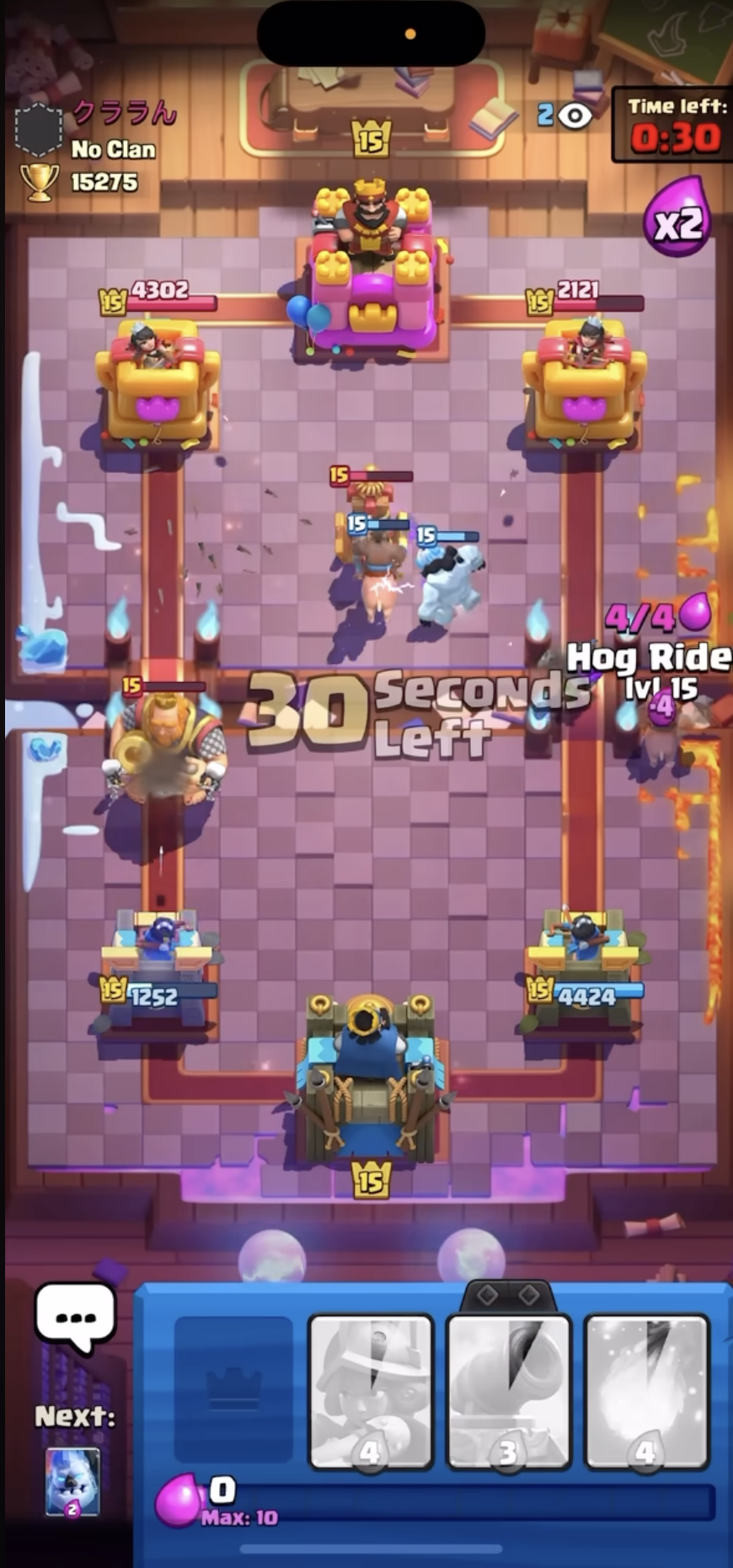hog-rider: (341, 515, 413, 623)
ice-golem: (414, 520, 486, 629)
